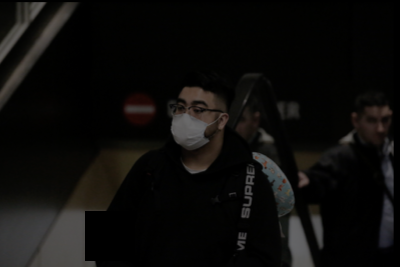with_mask: (169, 96, 217, 151)
without_mask: (364, 110, 393, 146)
